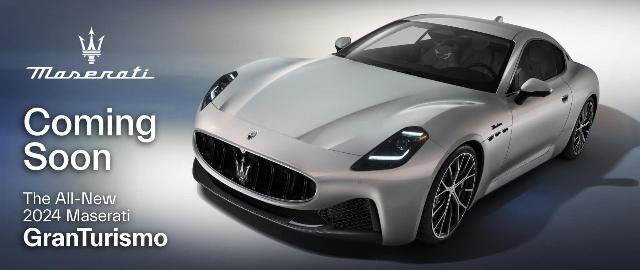maserati: (192, 13, 600, 248)
